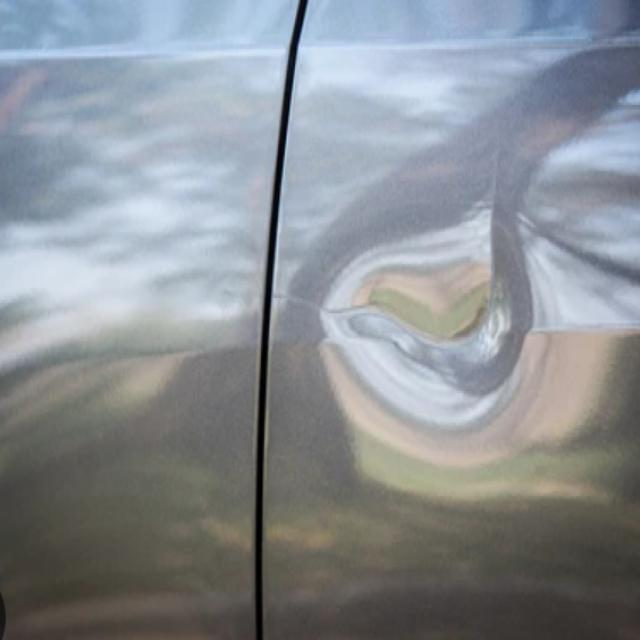dents: (298, 206, 578, 420)
